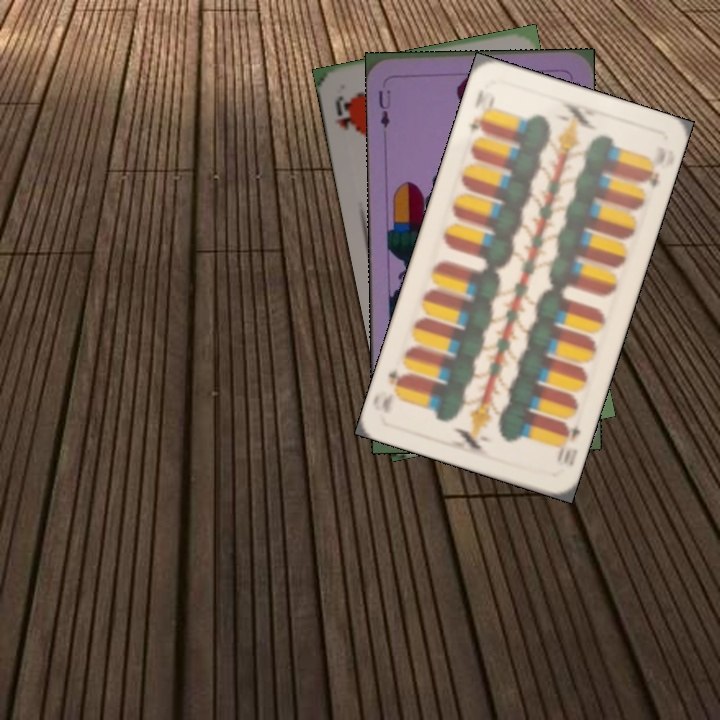E10: (557, 418, 583, 469), (466, 100, 487, 138)
EU: (374, 85, 393, 131)
HO: (331, 92, 359, 135)
